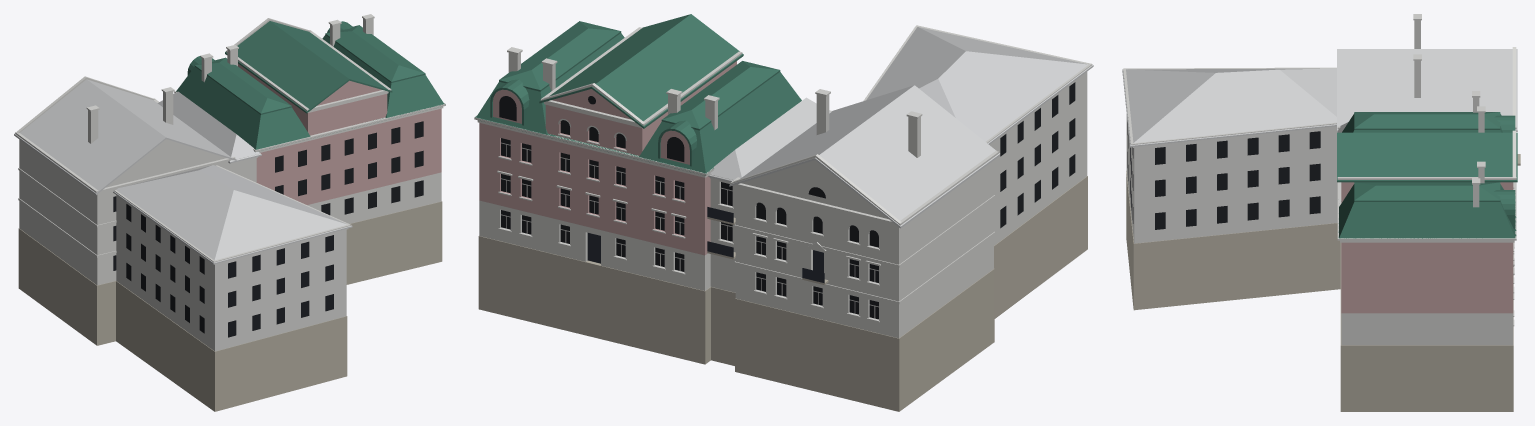
The model's file is SM_Zapskovye_Nab4.glb.
The picture shows the model from 3 angles, left to right: view 1: azimuth 30°, elevation 25°; view 2: azimuth 150°, elevation 25°; view 3: azimuth 270°, elevation 25°; orthographic projection. The views are drawn at different scales.
Parts seen in each view (by area): view 1: SM_Zapskovye_Nab4; view 2: SM_Zapskovye_Nab4; view 3: SM_Zapskovye_Nab4.
Boxes of the visible parts, box(x1,y1,x2,y2) form: SM_Zapskovye_Nab4: box(14, 14, 445, 411); SM_Zapskovye_Nab4: box(474, 14, 1093, 411); SM_Zapskovye_Nab4: box(1122, 14, 1520, 411).
Size of the model in its own units: 42.06 by 23.93 by 37.52.
